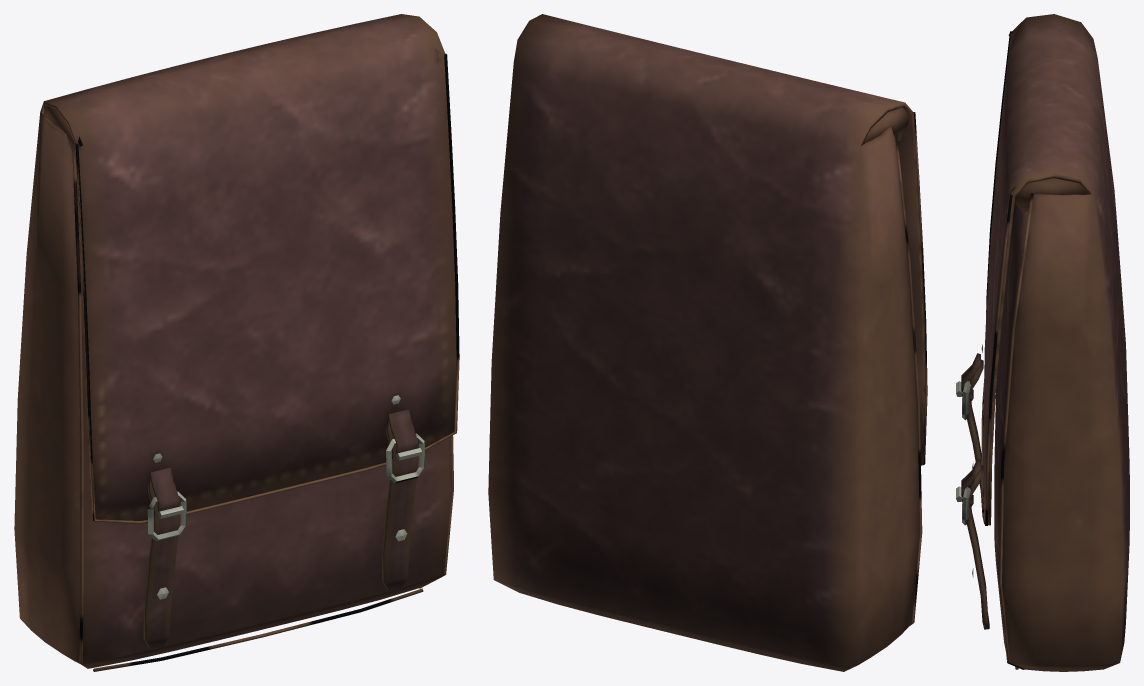
The model's file is DarkSchoolbag.glb.
The picture shows the model from 3 angles, left to right: view 1: azimuth 30°, elevation 25°; view 2: azimuth 150°, elevation 25°; view 3: azimuth 270°, elevation 25°; orthographic projection. The views are drawn at different scales.
Parts seen in each view (by area): view 1: Scholar • dark leather schoolbag; view 2: Scholar • dark leather schoolbag; view 3: Scholar • dark leather schoolbag.
Part boxes in pixels (box(x1,y1,x2,y2)): Scholar • dark leather schoolbag: box(14, 14, 459, 671); Scholar • dark leather schoolbag: box(488, 14, 927, 671); Scholar • dark leather schoolbag: box(956, 14, 1129, 671).
Size of the model in its own units: 0.882 by 1.24 by 0.3856.
Materials: 4 (4 with a texture image).
